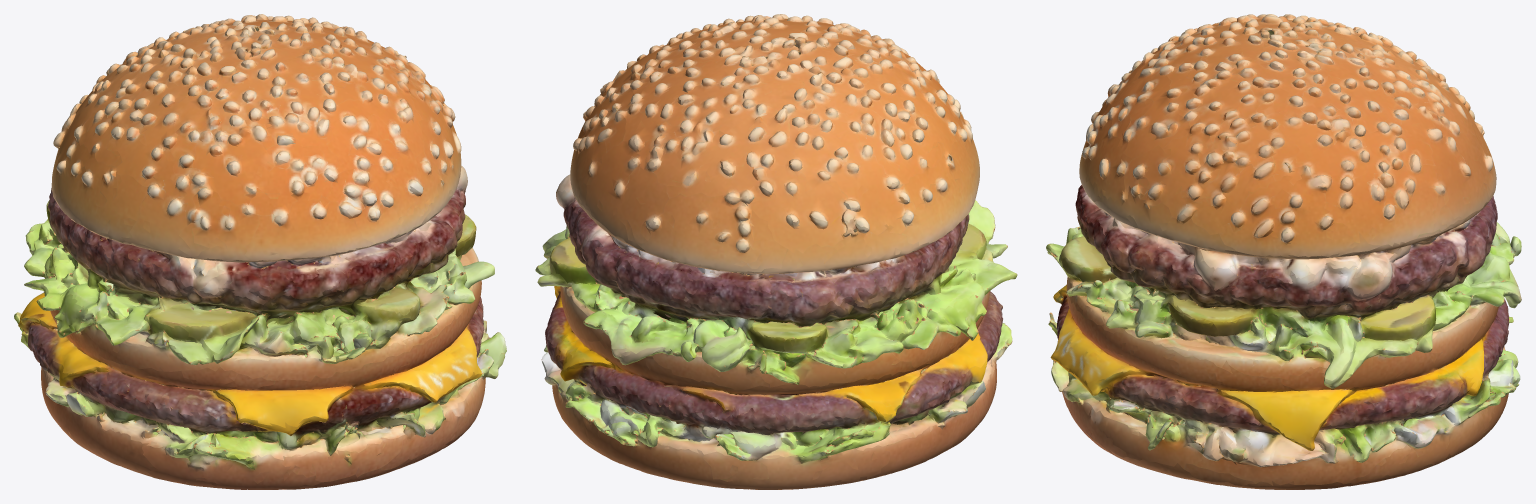
The model's file is burger-0.glb.
3 renders of one model, left to right at view 1: azimuth 30°, elevation 25°; view 2: azimuth 150°, elevation 25°; view 3: azimuth 270°, elevation 25°, orthographic.
Visible parts, largest first — view 1: geometry_0; view 2: geometry_0; view 3: geometry_0.
Part boxes in pixels (x1,y1,x2,y2): geometry_0: (14, 14, 506, 489); geometry_0: (535, 14, 1017, 489); geometry_0: (1046, 14, 1521, 489).
Bounding box in the file's own units: 0.1504 × 0.125 × 0.1501.
Materials: 1 (1 with a texture image).
